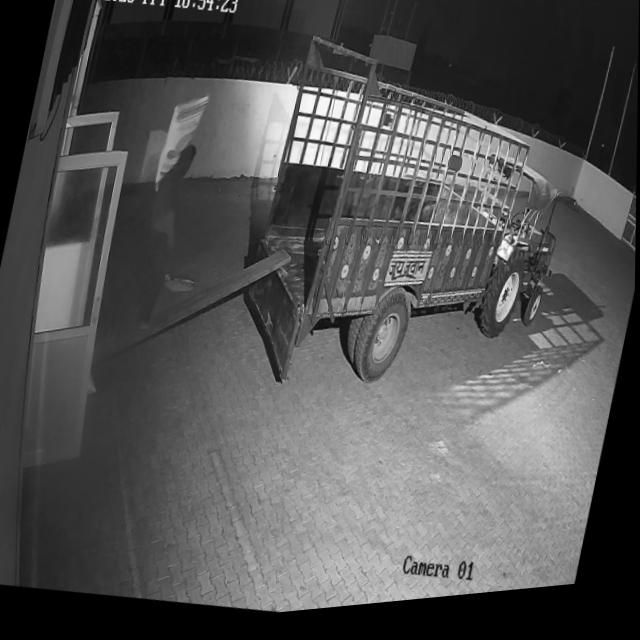sack: (154, 92, 210, 196)
